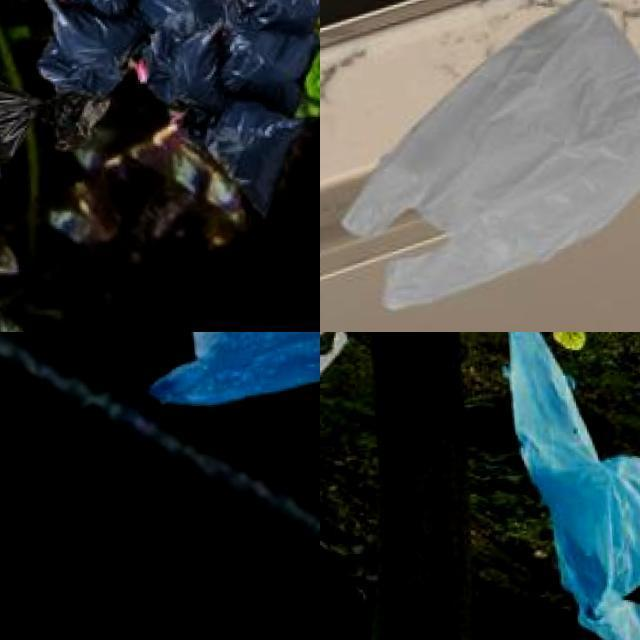waste: (326, 0, 640, 307), (498, 332, 640, 640), (0, 40, 114, 200), (197, 104, 310, 229), (136, 332, 320, 406), (211, 27, 318, 114), (130, 24, 228, 106), (220, 0, 320, 30)
